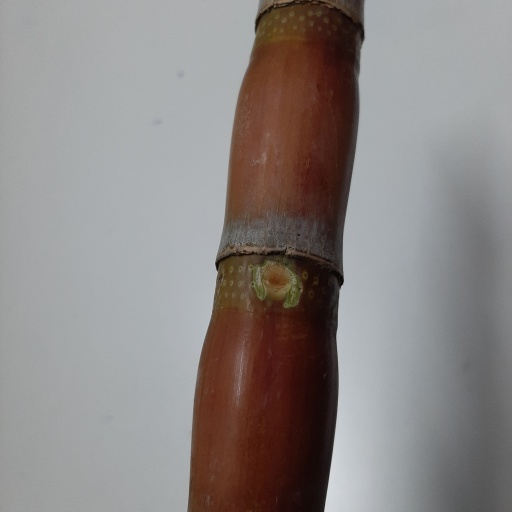Damage_Bud: (253, 260, 300, 297)
